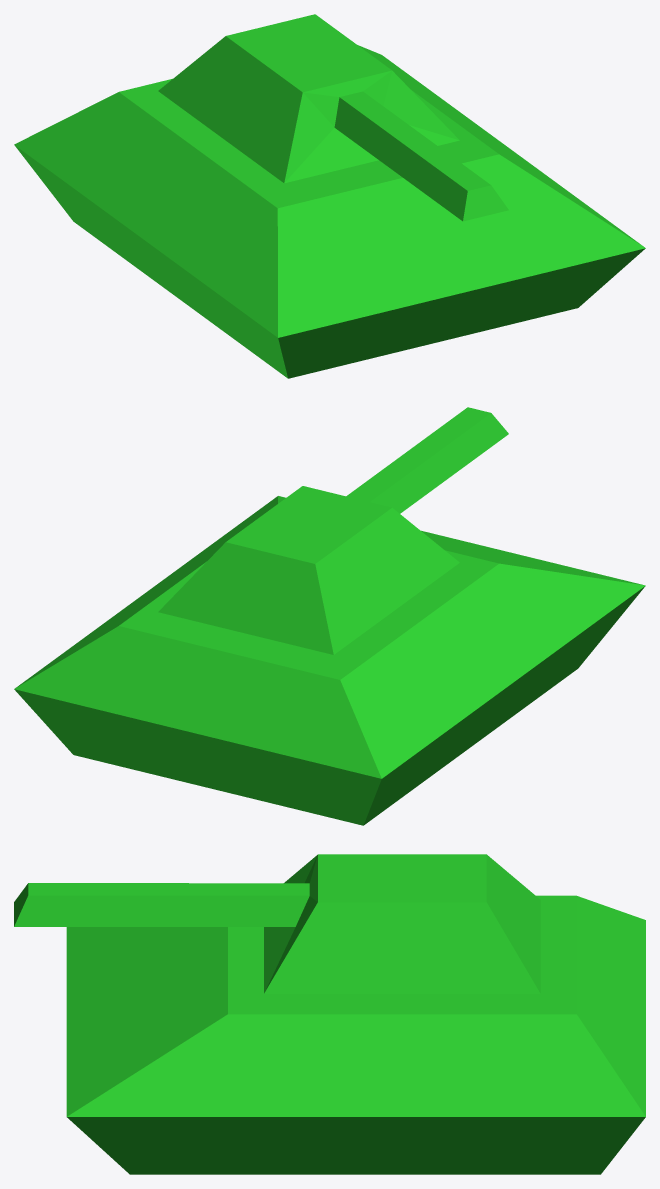
File: simpletank_.glb
3 renders of one model, top to bottom at view 1: azimuth 30°, elevation 25°; view 2: azimuth 150°, elevation 25°; view 3: azimuth 270°, elevation 25°, orthographic. The views are drawn at different scales.
Visible parts, largest first — view 1: Cube; view 2: Cube; view 3: Cube.
Part boxes in pixels (x1,y1,x2,y2): Cube: (14, 14, 645, 378); Cube: (14, 407, 645, 825); Cube: (14, 854, 645, 1174).
Size of the model in its own units: 15.62 by 8.08 by 21.2.
